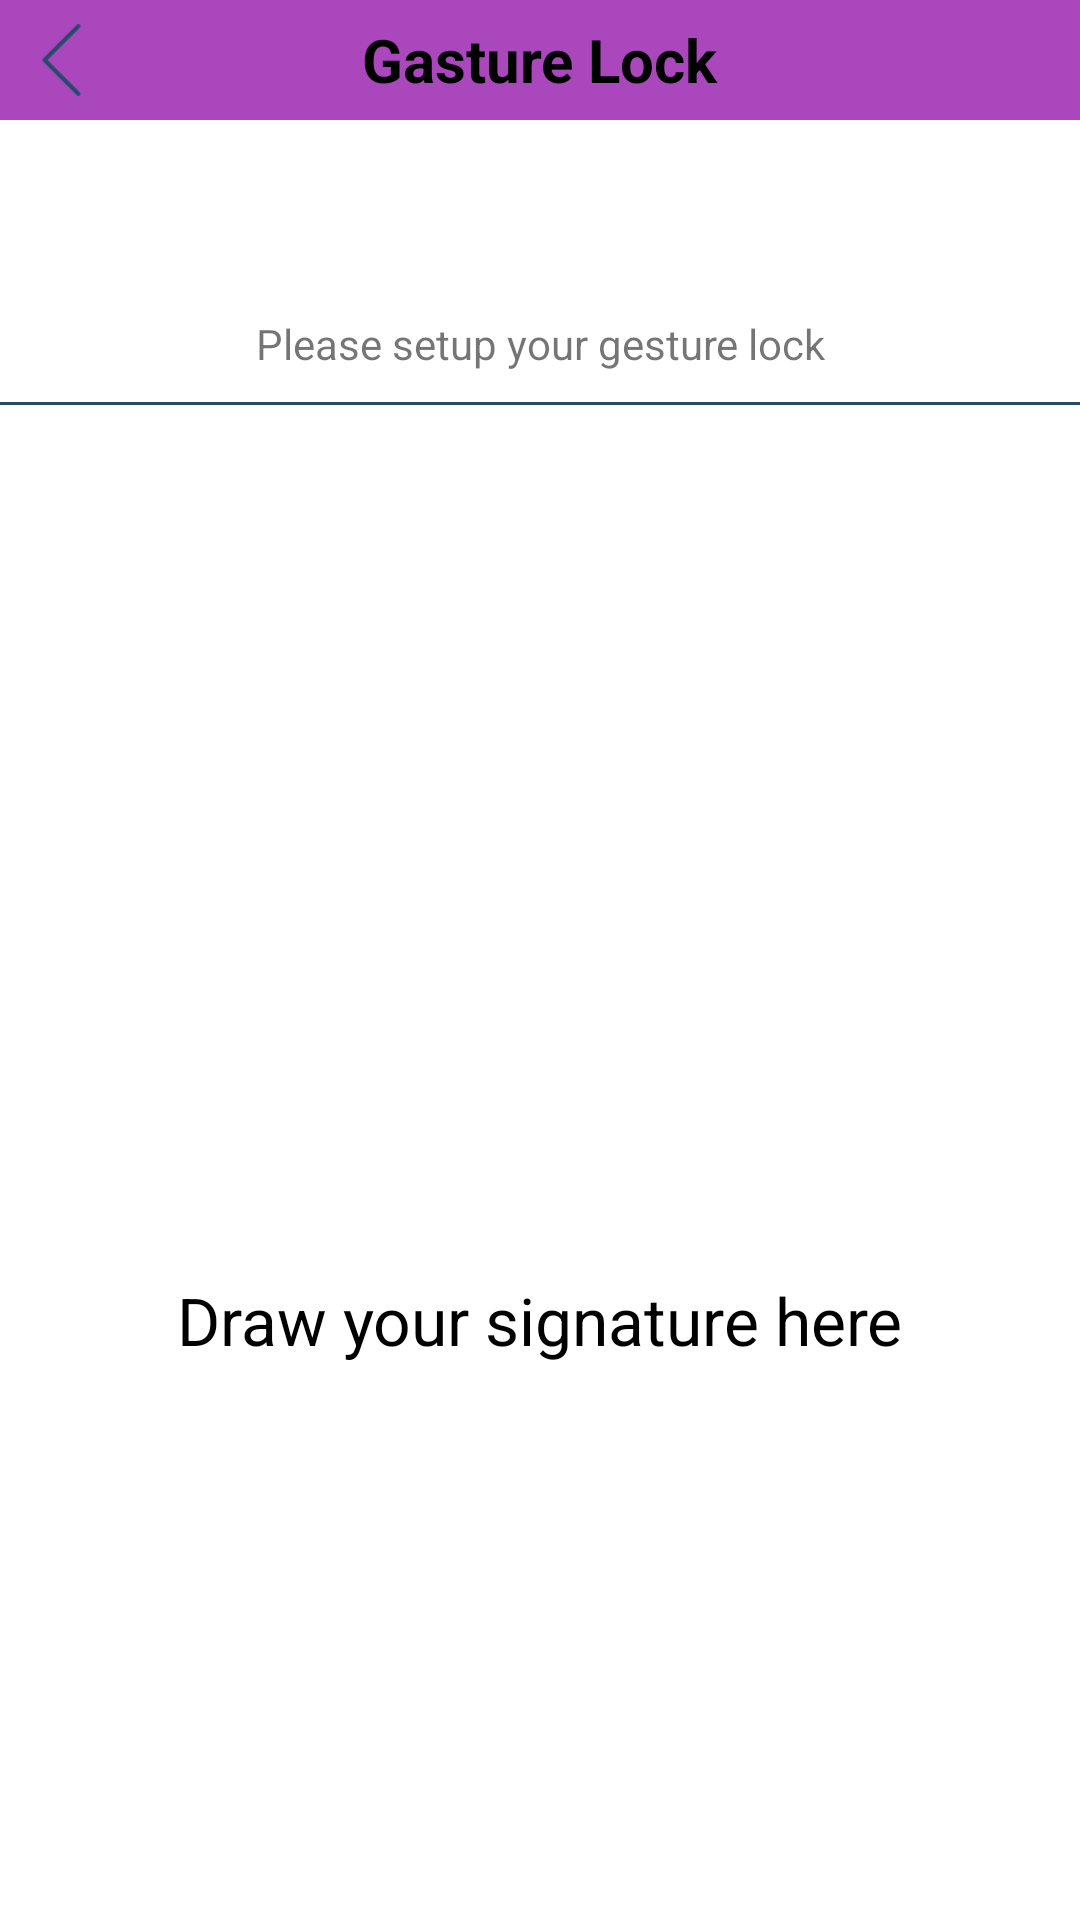

Where icons sit on this 1080x1920 app screen, as bbox=(x1, y1, x2, y2):
back: bbox=(42, 24, 81, 96)
